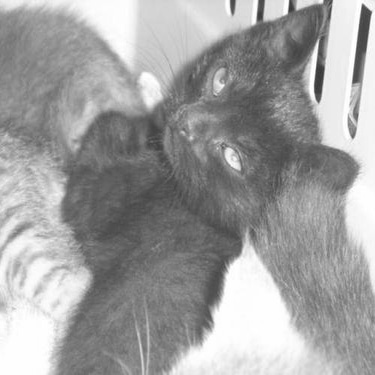cat: (63, 7, 358, 371), (249, 162, 367, 369), (2, 3, 148, 168)
